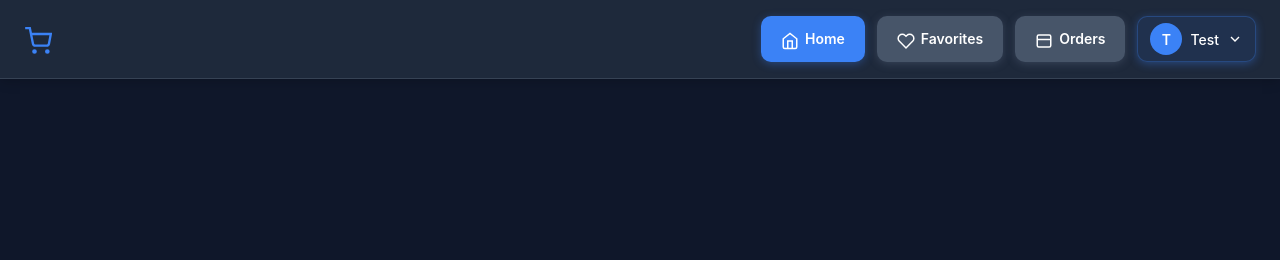
Scenario: Navbar Component › TC3: Logout Functionality › TC3.1: should show dropdown menu when profile button is clicked
Click the button "T Test" at [1197, 39], box [1137, 16, 1256, 62]
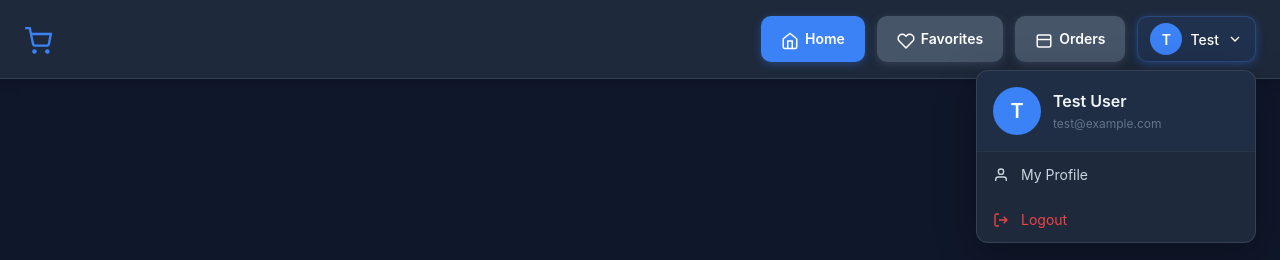
expect the link "My Profile" is shown: met, box [993, 166, 1088, 183]
expect the button "Logout" is shown: met, box [977, 197, 1255, 242]
